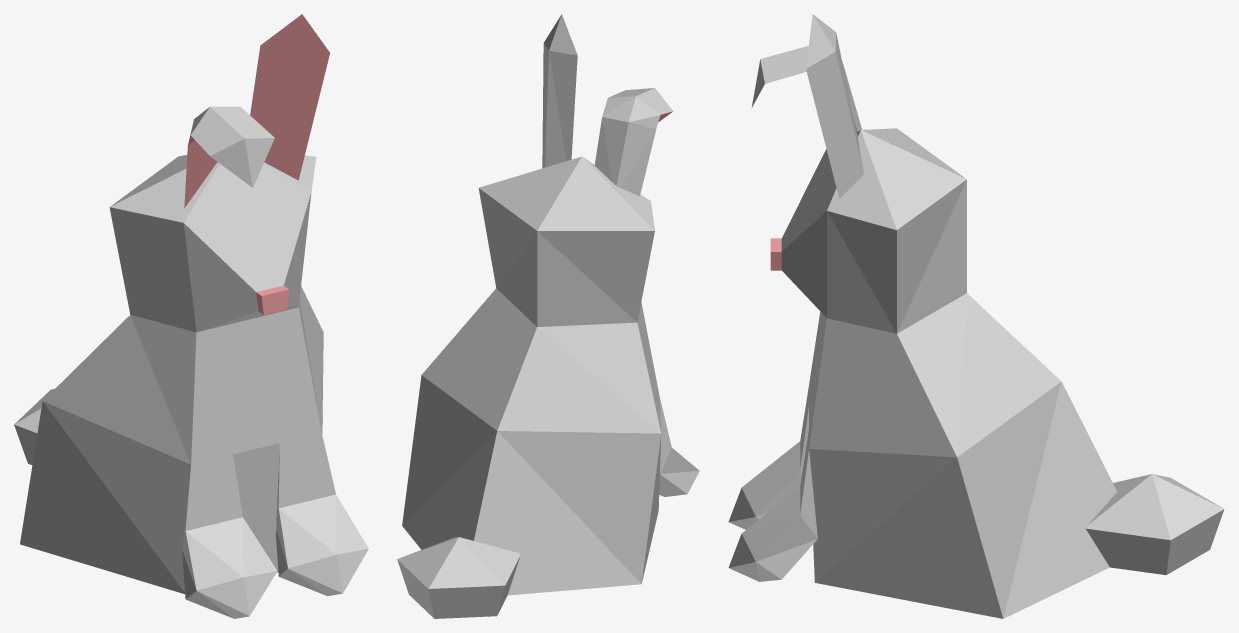
The model's file is Rabbit.fbx.
3 views of the same model, side by side, from view 1: azimuth 30°, elevation 25°; view 2: azimuth 150°, elevation 25°; view 3: azimuth 270°, elevation 25° (orthographic). The views are drawn at different scales.
Visible parts, largest first — view 1: Rabbit; view 2: Rabbit; view 3: Rabbit.
Part boxes in pixels (box(x1,y1,x2,y2)): Rabbit: box(14, 14, 368, 618); Rabbit: box(397, 14, 699, 618); Rabbit: box(728, 14, 1224, 618).
Size of the model in its own units: 24.67 by 47.2 by 37.33.
